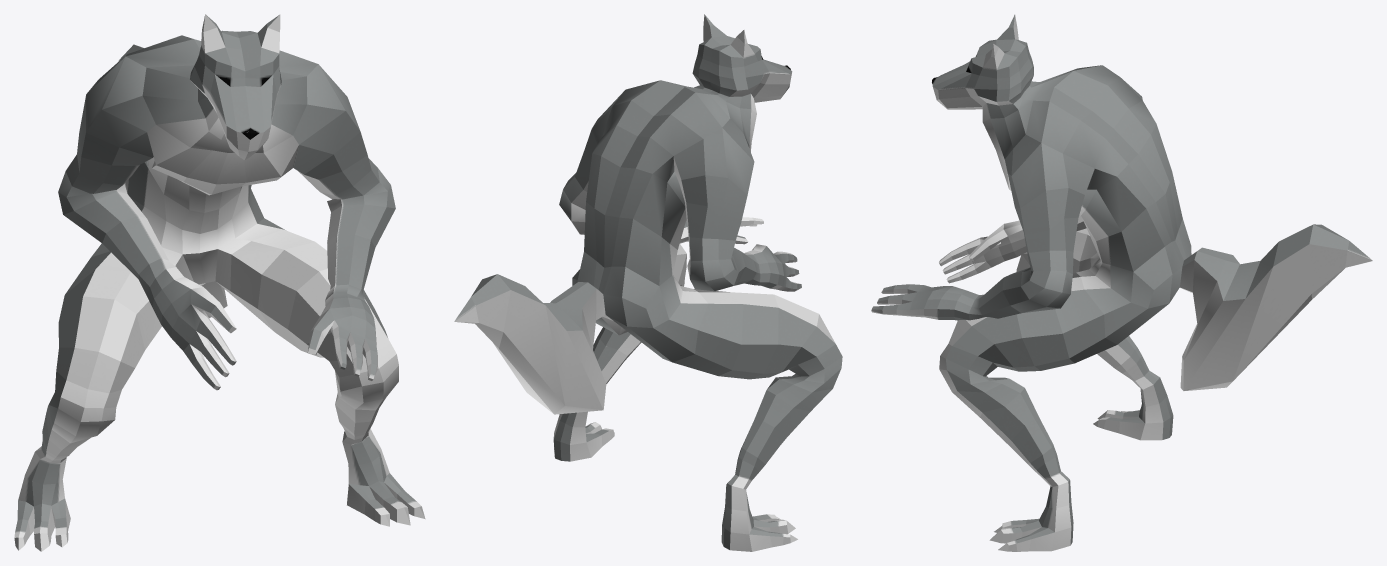
The model's file is WolfAttack(115).obj.
The picture shows the model from 3 angles, left to right: view 1: azimuth 30°, elevation 25°; view 2: azimuth 150°, elevation 25°; view 3: azimuth 270°, elevation 25°; orthographic projection. The views are drawn at different scales.
Visible parts, largest first — view 1: Box001; view 2: Box001; view 3: Box001.
Part boxes in pixels (left/top/right/bottom): Box001: left=14, top=14, right=425, bottom=551; Box001: left=454, top=14, right=842, bottom=551; Box001: left=871, top=14, right=1372, bottom=551.
Size of the model in its own units: 77.53 by 118 by 118.
